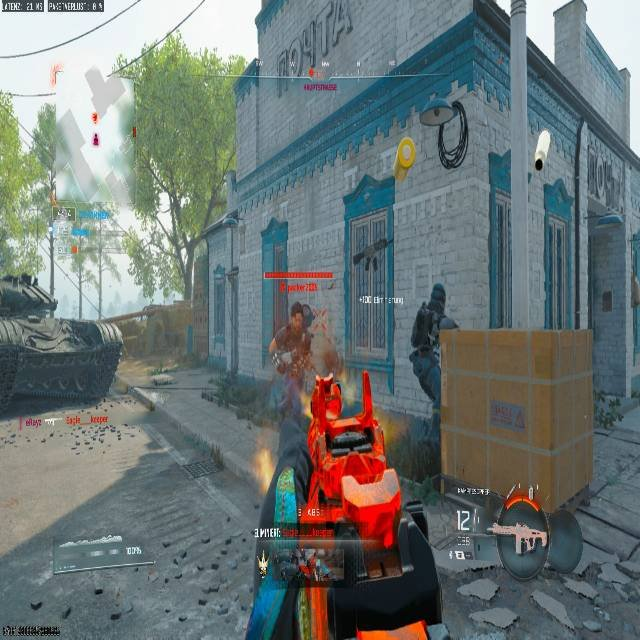head: (289, 301, 307, 331), (429, 283, 448, 309), (294, 296, 305, 312)
player: (409, 284, 460, 418), (270, 301, 323, 415), (275, 297, 322, 359)
